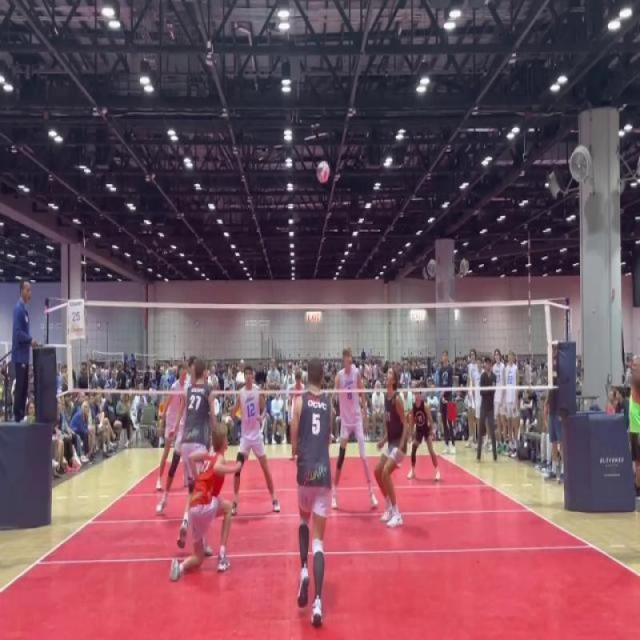volleyball: (314, 158, 332, 186)
